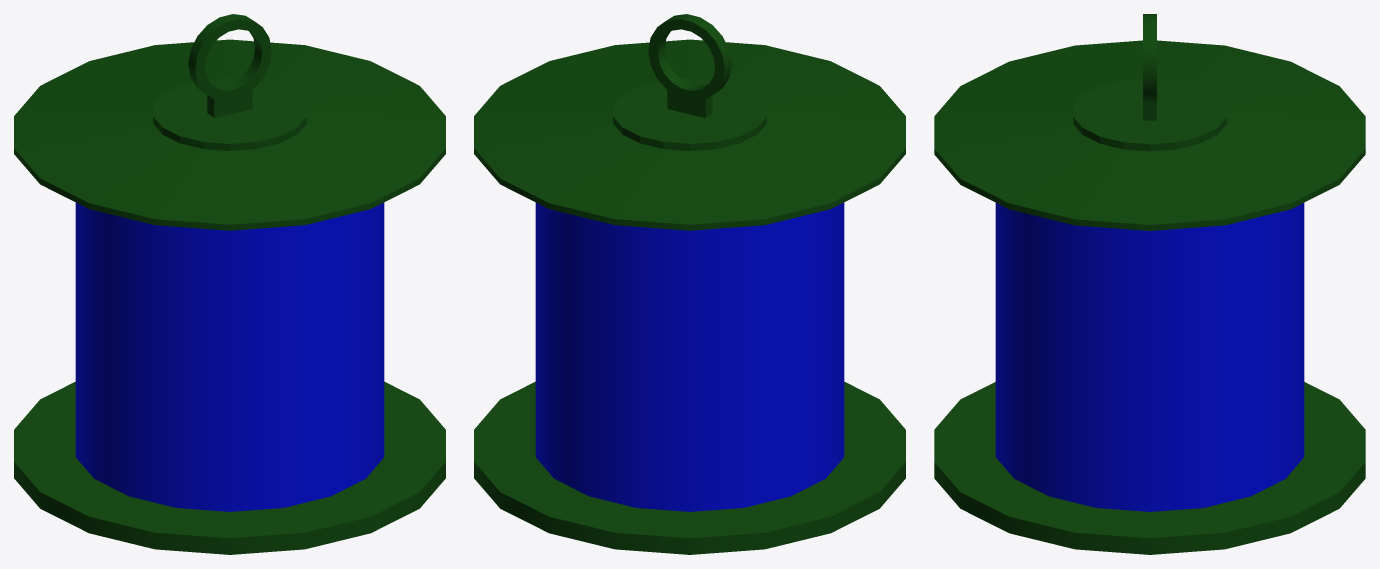
File: lantern2.FBX
3 views of the same model, side by side, from view 1: azimuth 30°, elevation 25°; view 2: azimuth 150°, elevation 25°; view 3: azimuth 270°, elevation 25° (orthographic).
Parts seen in each view (by area): view 1: Cylinder001, Object001; view 2: Cylinder001, Object001; view 3: Cylinder001, Object001.
Boxes of the visible parts, x1,y1,x2,y2 form: Cylinder001: [14, 14, 445, 554]; Object001: [75, 202, 384, 511]; Cylinder001: [474, 14, 905, 554]; Object001: [535, 202, 844, 511]; Cylinder001: [934, 14, 1365, 554]; Object001: [995, 203, 1304, 511].
Bounding box in the file's own units: 55.07 × 61.57 × 54.23.
